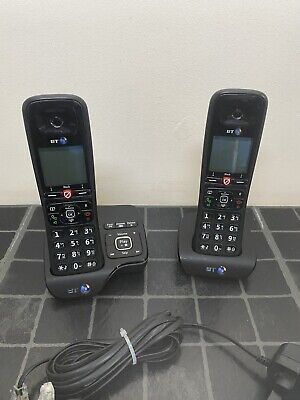telephone: (20, 90, 107, 277), (190, 86, 271, 260)
